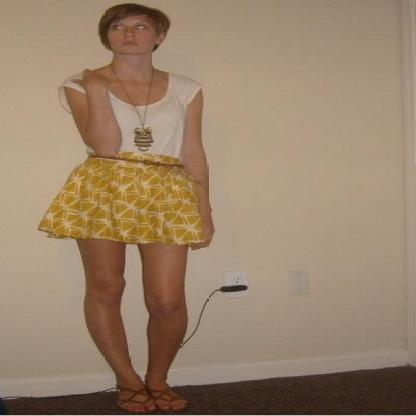shirt: (48, 66, 195, 161)
shoe: (114, 379, 172, 404)
skirt: (37, 148, 200, 252)
